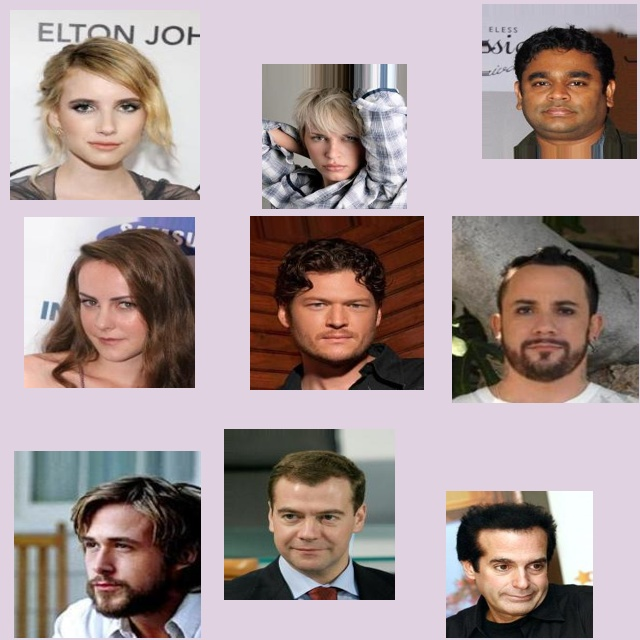celeb_1212: (250, 216, 424, 390)
celeb_2336: (446, 491, 593, 638)
celeb_2619: (224, 429, 395, 600)
celeb_2970: (10, 10, 200, 200)
celeb_3: (452, 216, 639, 403)
celeb_4422: (24, 217, 195, 388)
celeb_7: (482, 4, 637, 159)
celeb_797: (262, 64, 407, 209)
celeb_8335: (14, 451, 201, 638)
